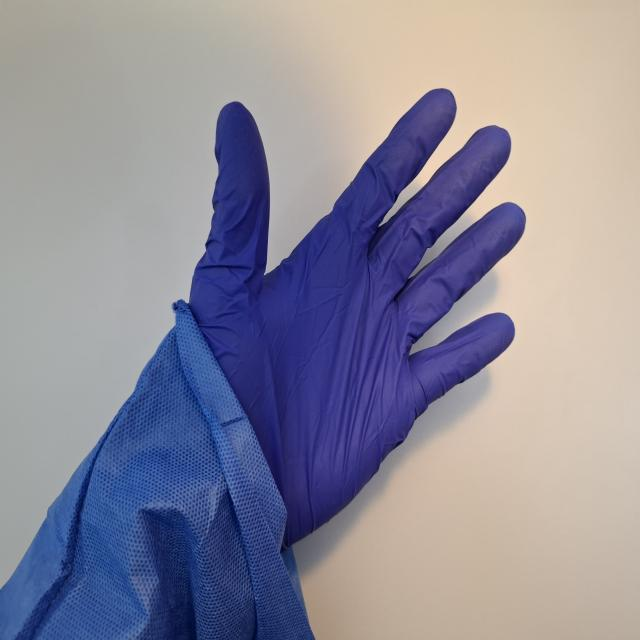glove_on: (160, 82, 528, 560)
